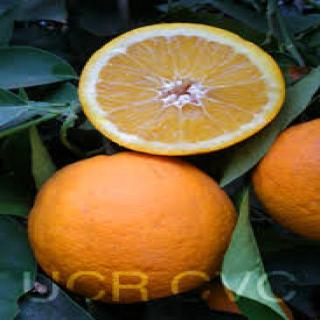orange: (25, 150, 238, 316), (69, 19, 289, 158), (249, 100, 320, 272)
